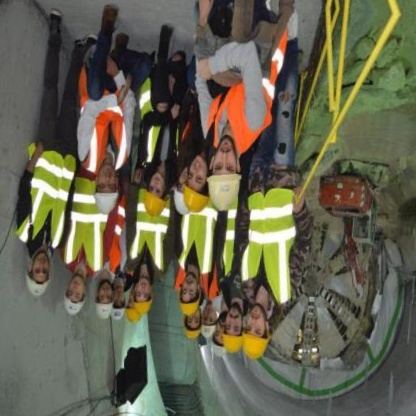vest: (203, 20, 290, 162), (233, 185, 308, 312), (67, 61, 139, 182), (13, 144, 78, 255), (58, 176, 117, 274), (132, 78, 188, 176), (126, 190, 176, 281), (174, 200, 222, 279), (217, 193, 243, 282)
white: (23, 267, 53, 301), (89, 185, 120, 216), (60, 292, 91, 318), (91, 294, 116, 323), (93, 294, 116, 324), (201, 317, 216, 343), (208, 339, 226, 359)
yellow: (239, 325, 274, 364), (182, 181, 210, 218), (141, 189, 171, 221), (176, 288, 206, 318), (220, 325, 246, 359), (124, 298, 142, 328), (182, 318, 205, 341), (132, 294, 154, 317)
